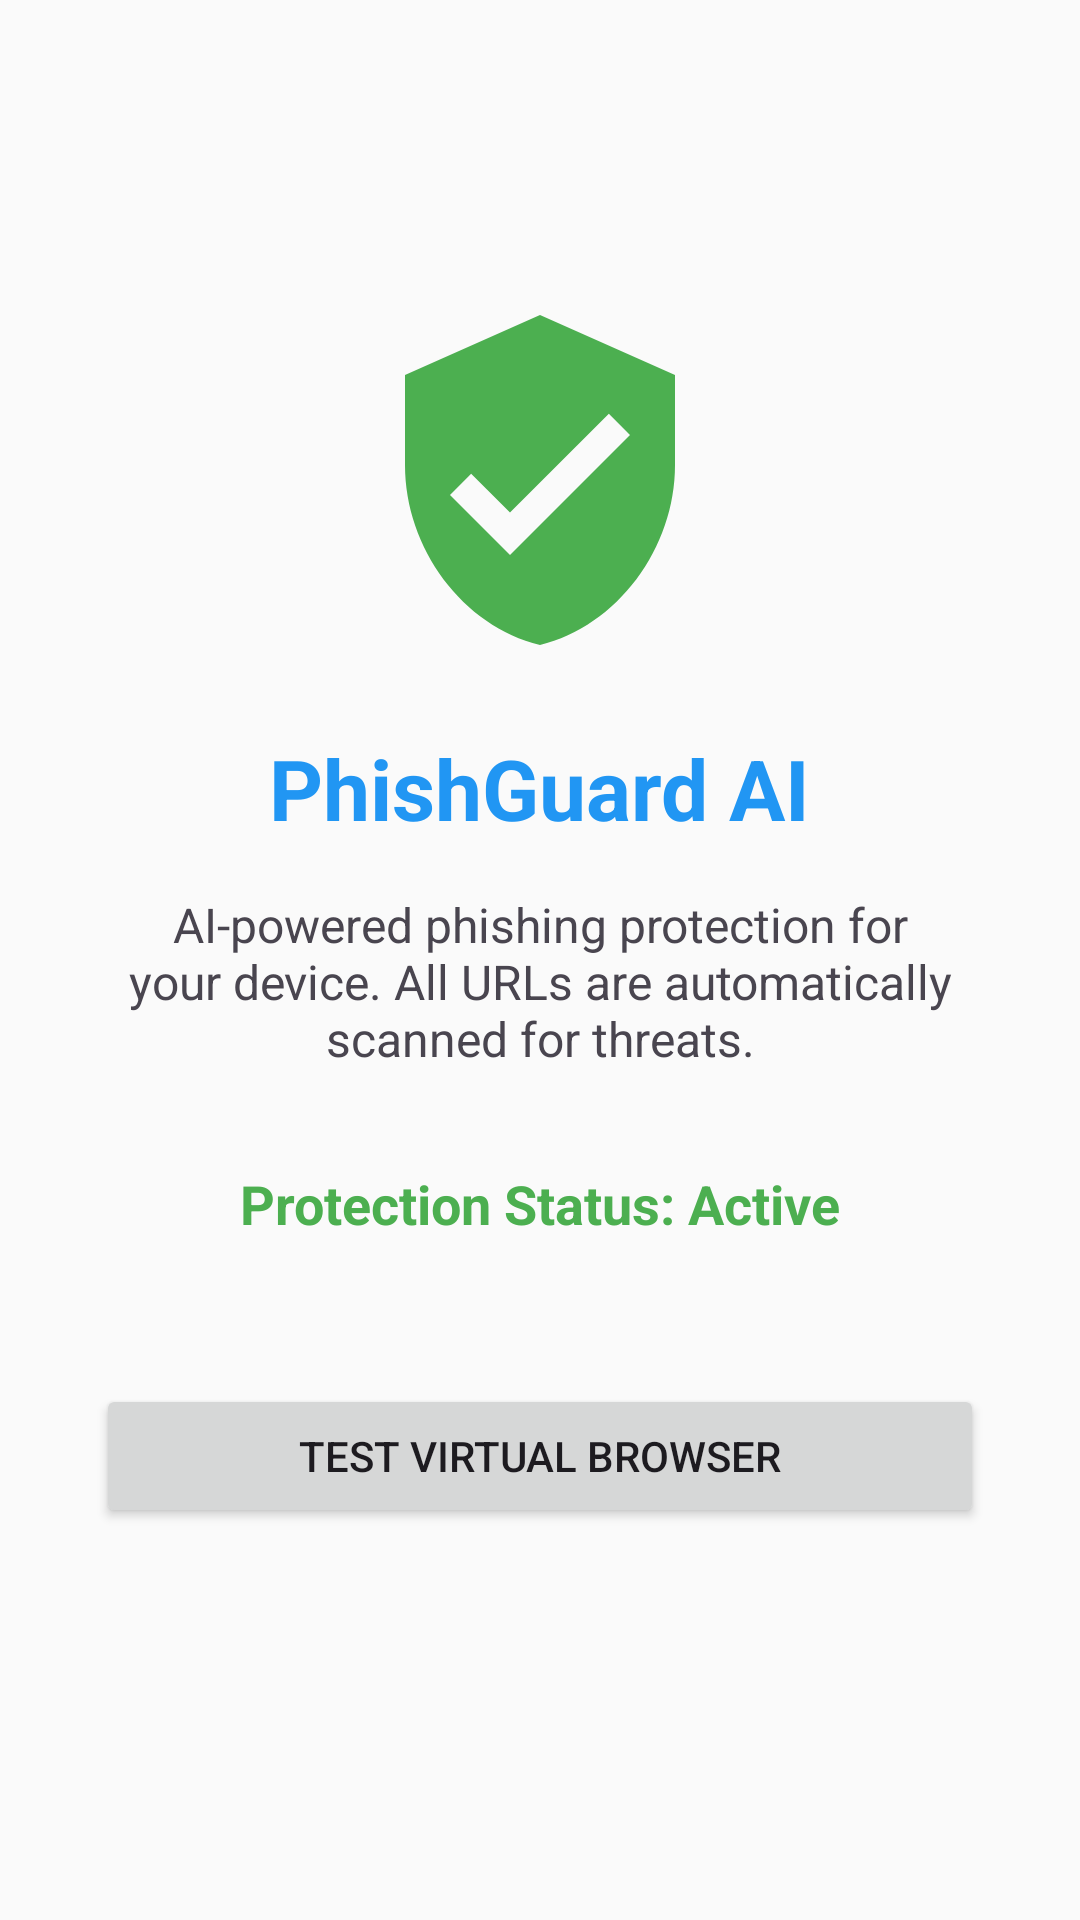

Where icons sit on this 1080*1920 app screen, as (x1, y1, x2, y2):
shield: (405, 315, 675, 645)
